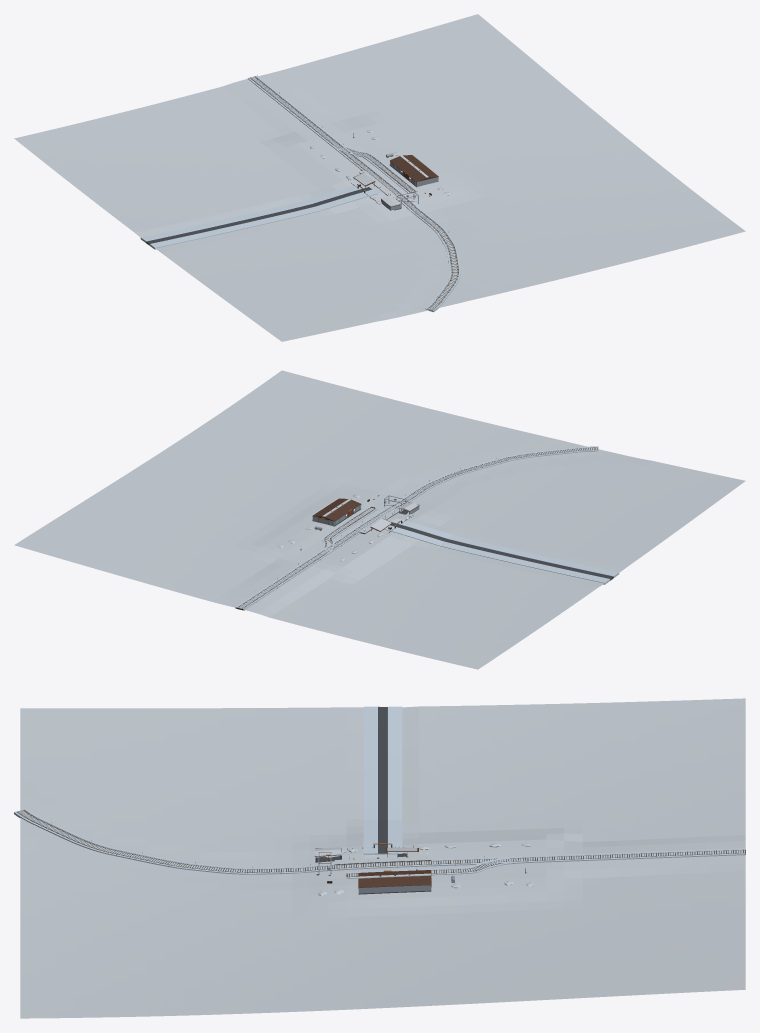
The model's file is WorldCell_-2_-2.fbx.
The picture shows the model from 3 angles, top to bottom: view 1: azimuth 30°, elevation 25°; view 2: azimuth 150°, elevation 25°; view 3: azimuth 270°, elevation 25°; orthographic projection. The views are drawn at different scales.
Parts seen in each view (by area): view 1: WorldCell_-2_-2, Road_0_-2_-2, Depot_-2_-2, Rail_-2_-2, Ties_-2_-2, Siding_-2_-2; view 2: WorldCell_-2_-2, Road_0_-2_-2, Rail_-2_-2, Depot_-2_-2, Ties_-2_-2, Siding_-2_-2; view 3: WorldCell_-2_-2, Road_0_-2_-2, Rail_-2_-2, Depot_-2_-2, Ties_-2_-2, Siding_-2_-2.
Boxes of the visible parts, x1=… form: WorldCell_-2_-2: x1=14, y1=14, x2=745, y2=341; Road_0_-2_-2: x1=140, y1=184, x2=377, y2=249; Depot_-2_-2: x1=310, y1=130, x2=451, y2=210; Rail_-2_-2: x1=247, y1=76, x2=460, y2=312; Ties_-2_-2: x1=249, y1=77, x2=458, y2=309; Siding_-2_-2: x1=329, y1=141, x2=417, y2=193; WorldCell_-2_-2: x1=14, y1=370, x2=745, y2=669; Road_0_-2_-2: x1=384, y1=518, x2=619, y2=584; Rail_-2_-2: x1=235, y1=446, x2=598, y2=610; Depot_-2_-2: x1=277, y1=494, x2=419, y2=561; Ties_-2_-2: x1=236, y1=447, x2=597, y2=610; Siding_-2_-2: x1=318, y1=506, x2=377, y2=555; WorldCell_-2_-2: x1=20, y1=698, x2=745, y2=1018; Road_0_-2_-2: x1=363, y1=706, x2=402, y2=854; Rail_-2_-2: x1=14, y1=809, x2=745, y2=874; Depot_-2_-2: x1=314, y1=843, x2=534, y2=896; Ties_-2_-2: x1=17, y1=810, x2=745, y2=872; Siding_-2_-2: x1=346, y1=856, x2=525, y2=878.
Bounding box in the file's own units: 60007 × 3012 × 60539.
